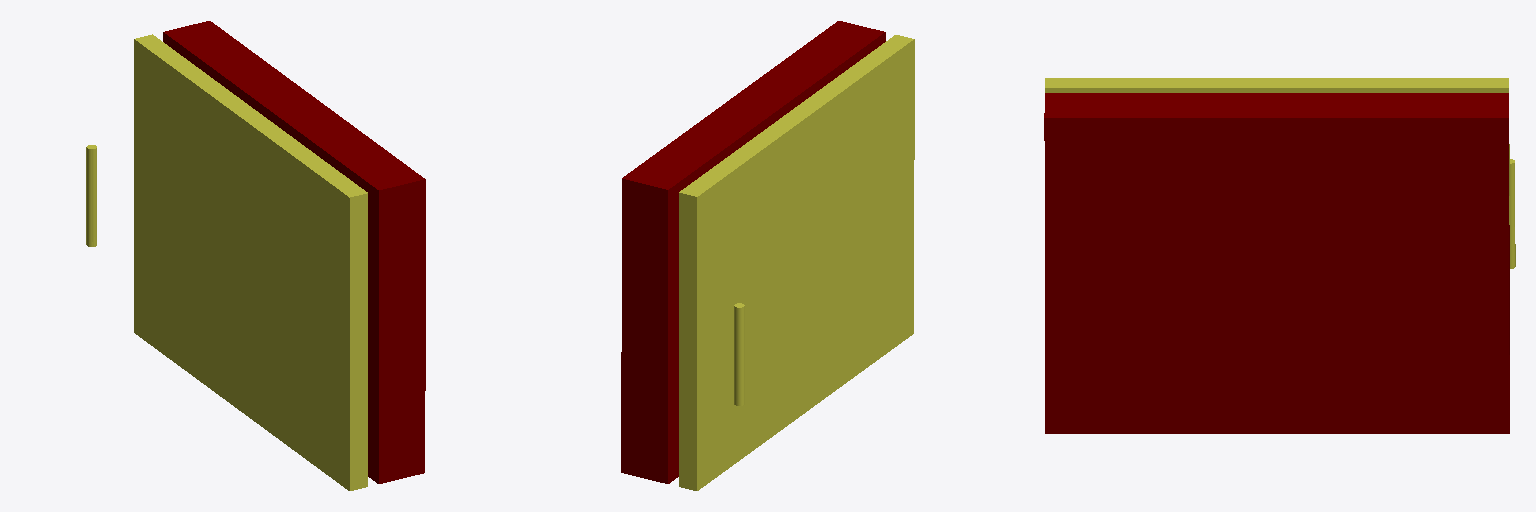
URDF robot description (door):
<?xml version="1.0" encoding="utf-8"?>
<!-- =================================================================================== -->
<!-- |    This document was autogenerated by xacro from microwave.urdf.xacro           | -->
<!-- |    EDITING THIS FILE BY HAND IS NOT RECOMMENDED                                 | -->
<!-- =================================================================================== -->
<robot name="door">
  <link name="world"/>
  <joint name="fixed" type="fixed">
    <parent link="world"/>
    <child link="door_frame"/>
    <origin rpy="1.57 0 3.14" xyz="0.65 -0.3 0.3"/>
  </joint>
  <link name="door_frame">
    <visual>
      <origin rpy="0 0 0" xyz="0 0 0.2"/>
      <geometry>
        <box size="0.05 0.3 0.4"/>
      </geometry>
      <material name="frame_material">
        <color rgba="0.5 0.0 0.0 1"/>
      </material>
    </visual>
    <collision>
      <origin rpy="0 0 0" xyz="0 0 0.2"/>
      <geometry>
        <box size="0.05 0.3 0.4"/>
      </geometry>
    </collision>
  </link>
  <link name="door_link">
    <inertial>
      <origin rpy="0 0 0" xyz="0 0 0.2"/>
      <mass value="1.0"/>
      <inertia ixx="0.048966669" ixy="0" ixz="0" iyy="0.046466667" iyz="0" izz="0.0041666669"/>
    </inertial>
    <visual>
      <origin rpy="0 0 0" xyz="0 0 0.2"/>
      <geometry>
        <box size="0.02 0.3 0.4"/>
      </geometry>
      <material name="door_material">
        <color rgba="0.8 0.8 0.3 1"/>
      </material>
    </visual>
    <collision>
      <origin rpy="0 0 0" xyz="0 0 0.2"/>
      <geometry>
        <box size="0.02 0.3 0.4"/>
      </geometry>
    </collision>
  </link>
  <joint name="articulation_joint" type="revolute">
    <parent link="door_frame"/>
    <child link="door_link"/>
    <dynamics damping="1.0" friction="4.0"/>
    <origin xyz="0.046 0 0"/>
    <axis xyz="0 1 0"/>
    <limit effort="100" lower="0" upper="1.57" velocity="10.0"/>
  </joint>
  <link name="handle_link">
    <inertial>
      <origin rpy="0 0 0" xyz="0 0 0"/>
      <mass value="0.1"/>
      <inertia ixx="0.001" ixy="0" ixz="0" iyy="0.001" iyz="0" izz="0.001"/>
    </inertial>
    <visual>
      <origin rpy="0 0 0" xyz="0 0 0"/>
      <geometry>
        <cylinder length="0.10" radius="0.005"/>
      </geometry>
      <material name="handle_matreial">
        <color rgba="0.8 0.8 0.3 1"/>
      </material>
    </visual>
    <collision>
      <origin rpy="0 0 0" xyz="0 0 0"/>
      <geometry>
        <cylinder length="0.010" radius="0.005"/>
      </geometry>
    </collision>
  </link>
  <joint name="handle_joint" type="fixed">
    <parent link="door_link"/>
    <child link="handle_link"/>
    <origin rpy="1.5708 0 0" xyz="0.055 0 0.4"/>
    <dynamics damping="1.0" friction="2.0"/>
    <axis xyz="0 1 0"/>
  </joint>
</robot>

--- Facts derived from the render (not from the file) ---
The picture shows the robot from 3 angles, left to right: view 1: azimuth 30°, elevation 25°; view 2: azimuth 150°, elevation 25°; view 3: azimuth 270°, elevation 25°; orthographic projection.
Robot: door — 4 links, 3 joints (1 revolute, 2 fixed); root link world; default pose: all joints at 0.
Visible links, largest first — view 1: door_link, door_frame, handle_link; view 2: door_link, door_frame, handle_link; view 3: door_frame, door_link, handle_link.
Boxes of the visible links, x1=… form: door_link: x1=134, y1=34, x2=367, y2=490; door_frame: x1=163, y1=21, x2=425, y2=483; handle_link: x1=86, y1=145, x2=96, y2=246; door_link: x1=679, y1=35, x2=914, y2=490; door_frame: x1=621, y1=21, x2=885, y2=483; handle_link: x1=734, y1=303, x2=744, y2=405; door_frame: x1=1044, y1=93, x2=1509, y2=433; door_link: x1=1045, y1=78, x2=1509, y2=224; handle_link: x1=1510, y1=159, x2=1515, y2=268.
Size in the robot's own frame: 0.131 by 0.4054 by 0.3003 metres.
Geometry: primitives only (box / cylinder / sphere), no mesh files.